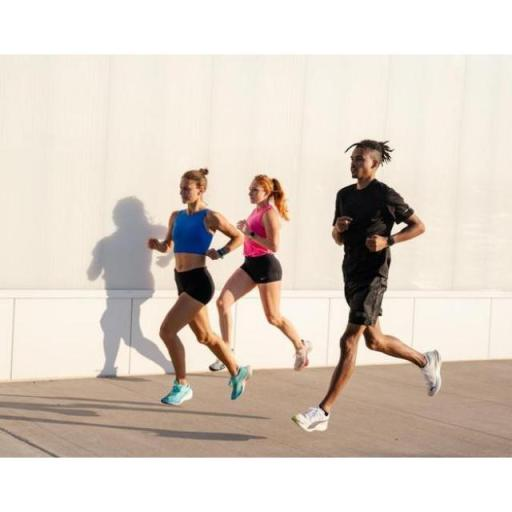Running: (311, 138, 441, 436), (150, 166, 250, 402), (227, 176, 310, 374)
